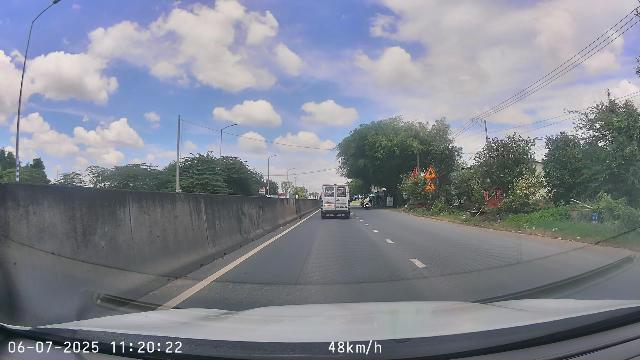207-giao-nhau-voi-duong-khong-uu-tien: (424, 166, 437, 179)
224-duong-nguoi-di-bo-cat-ngang: (425, 180, 436, 192)
